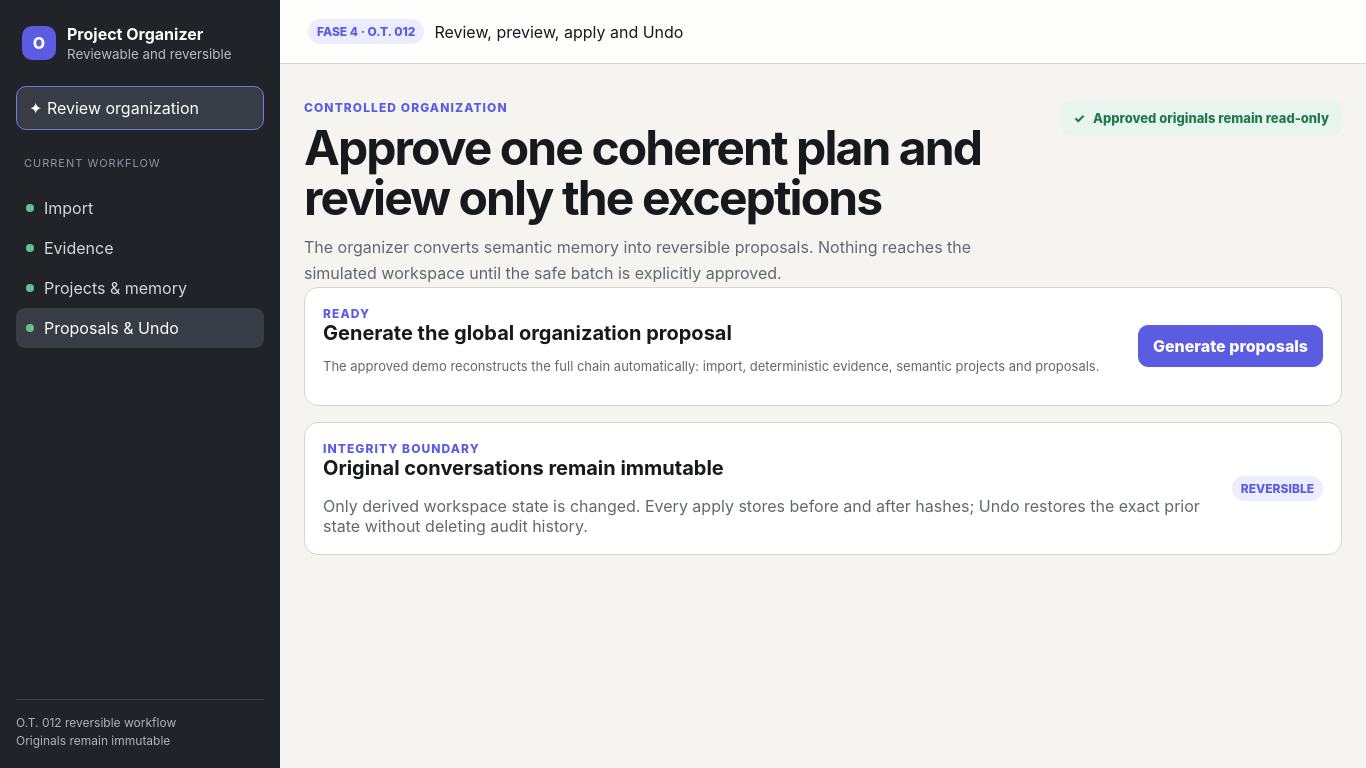
Test case: O.T. 012 workflow › keeps prior workflow pages accessible
Click the button "Projects & memory".
click(140, 288)  # box [16,268,264,308]
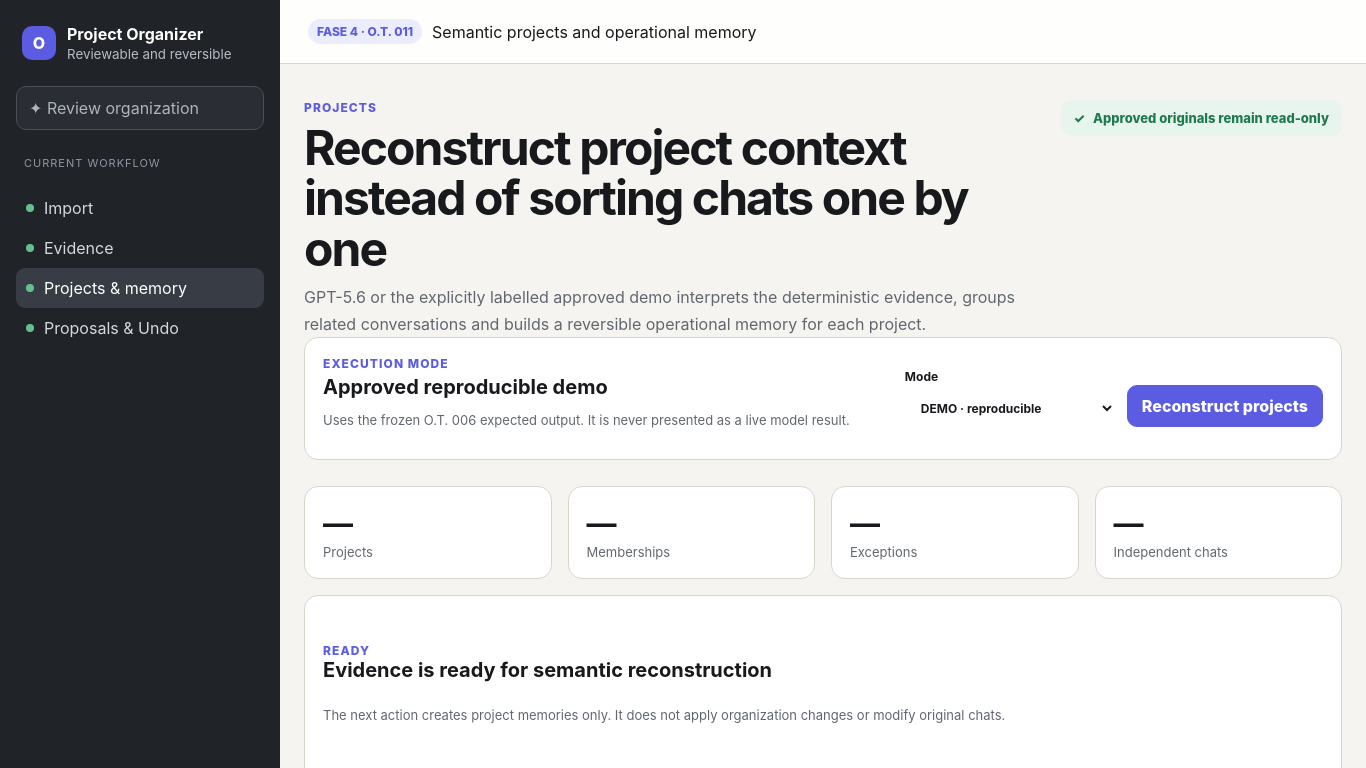
Expected: the heading "Reconstruct project context" is shown, [304,123,1036,274]
